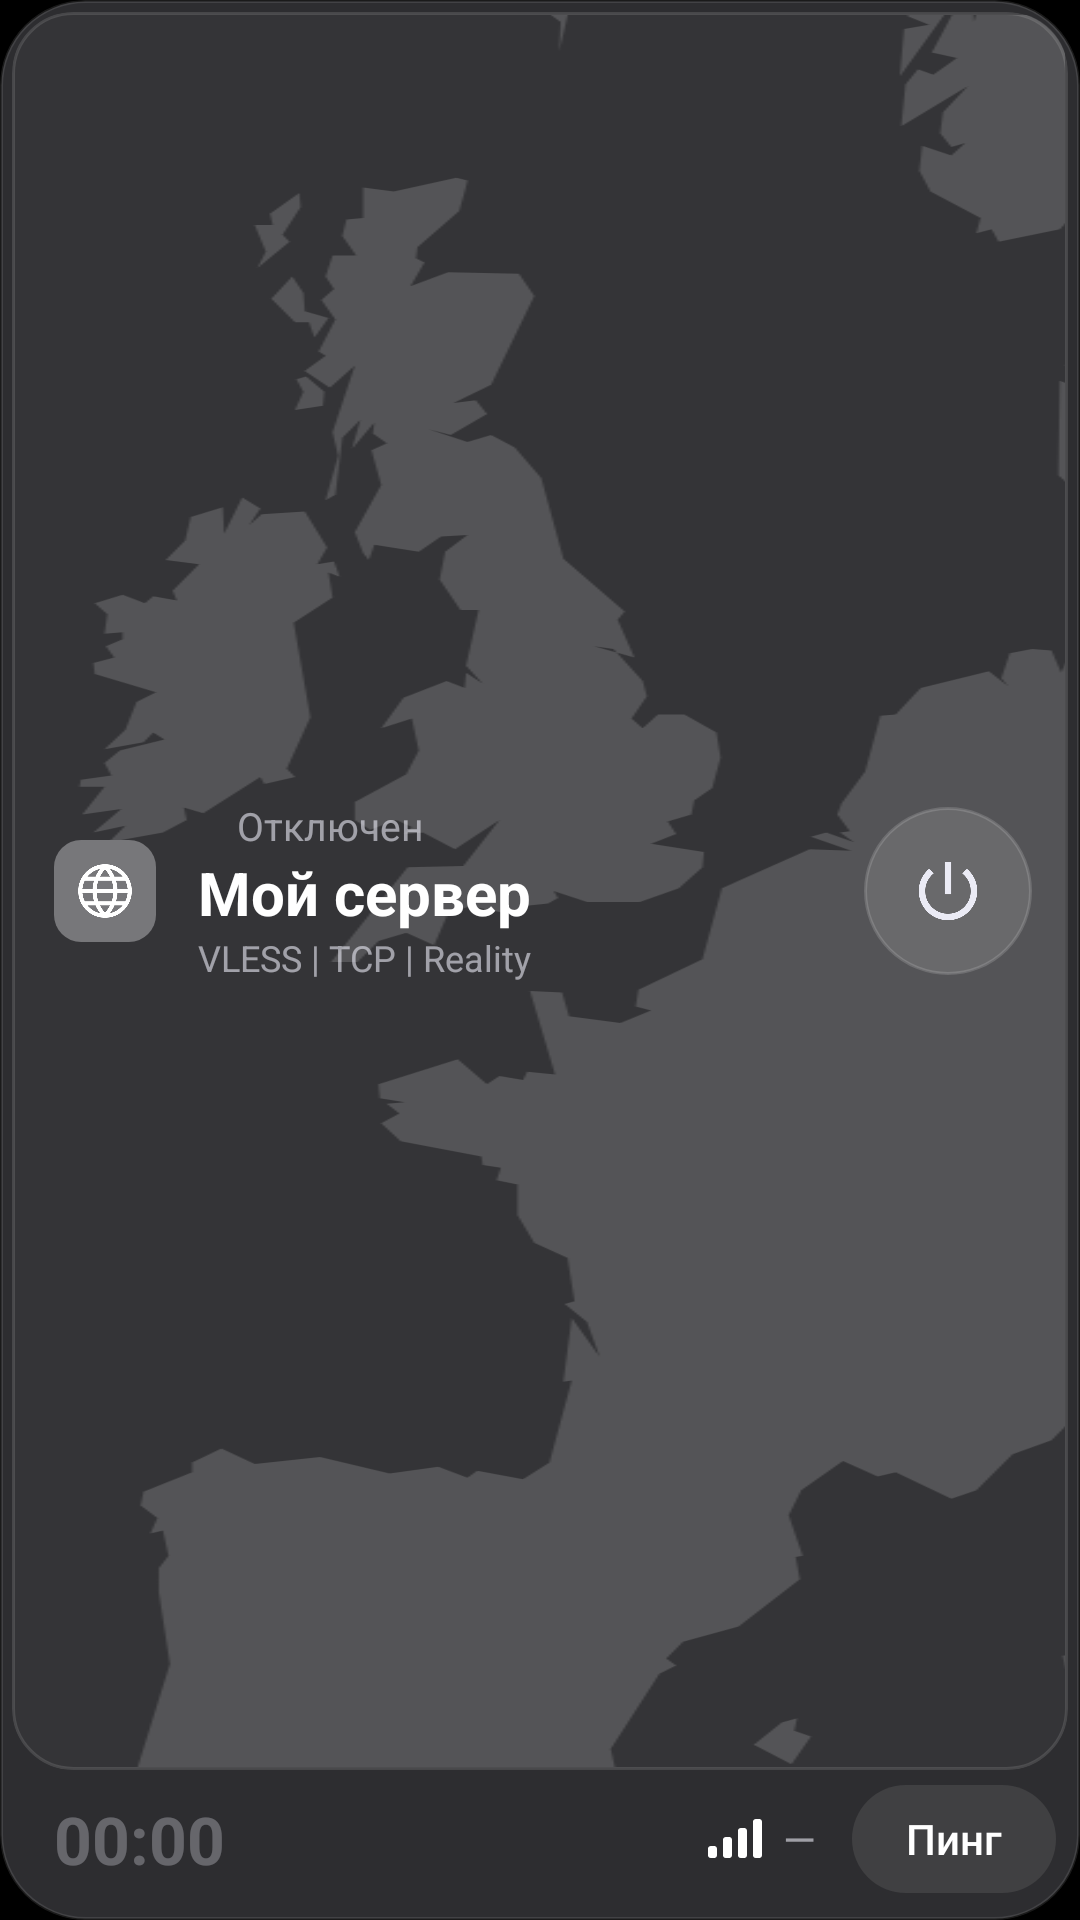

Point at icon controls on the screen. Image size 1080×1920, points as (x,y).
widget globe: (105,891)
